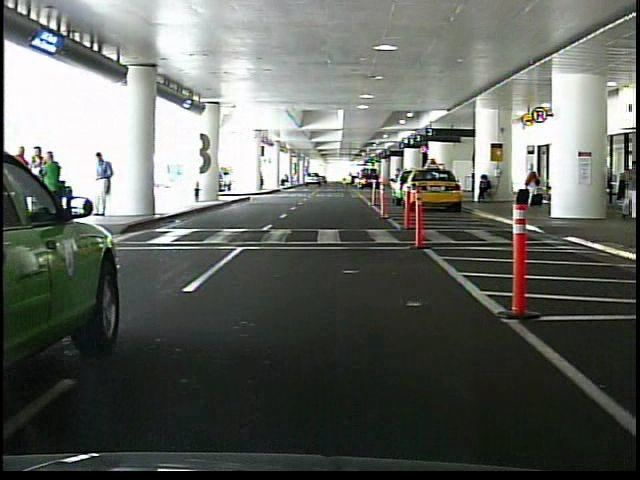person: (13, 145, 36, 221), (616, 155, 640, 218), (97, 151, 117, 217), (44, 151, 68, 199), (34, 143, 50, 211), (526, 161, 543, 208), (477, 171, 496, 203)
